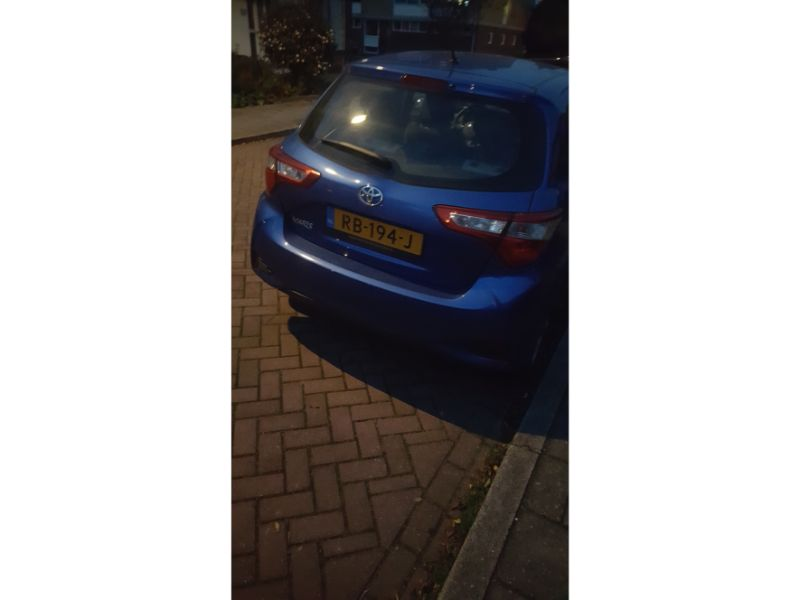kenteken: (327, 207, 428, 260)
